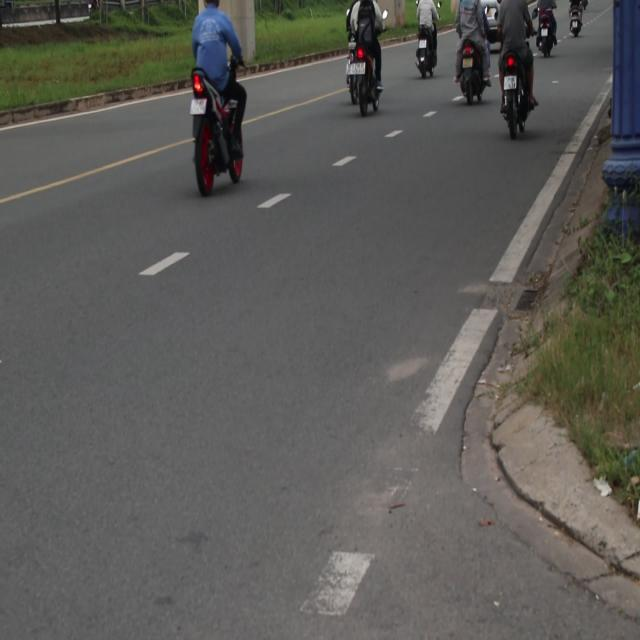motorbike: (462, 41, 538, 134), (189, 89, 255, 191), (497, 48, 537, 136), (344, 36, 375, 112), (454, 41, 489, 106), (352, 51, 382, 118), (534, 5, 560, 58), (415, 32, 435, 80), (570, 2, 586, 37)
